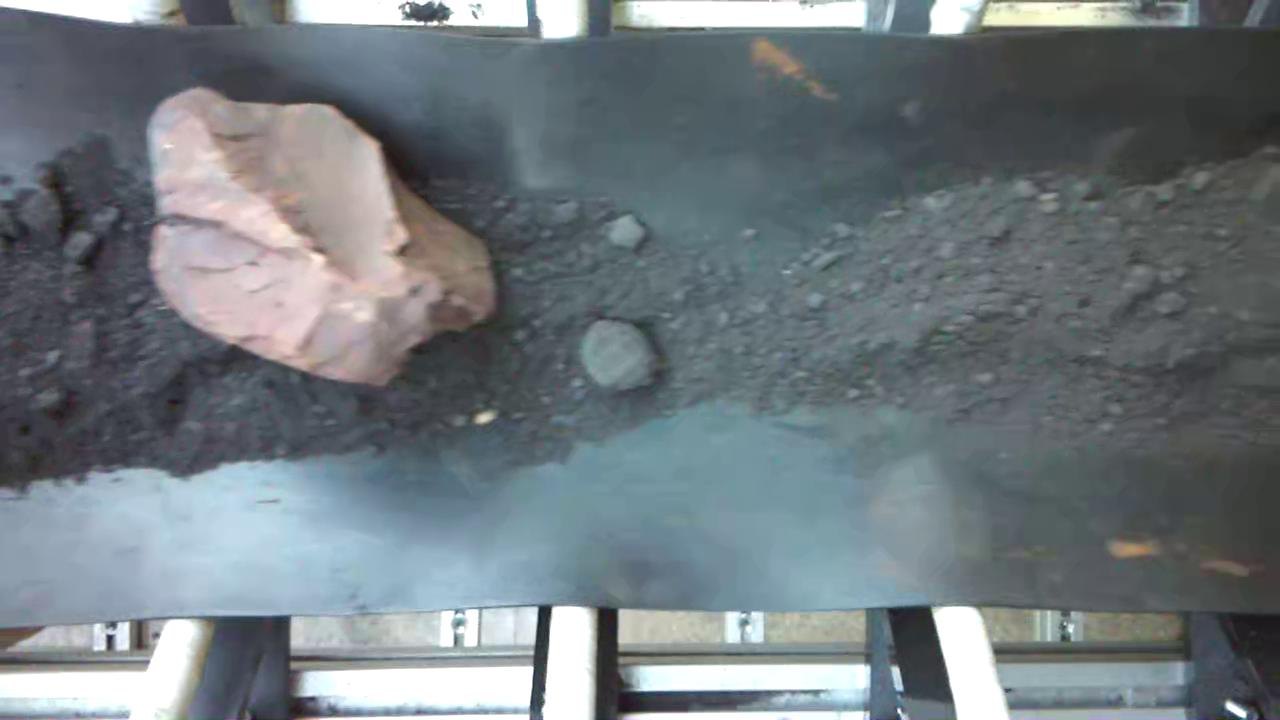conveyor: (0, 33, 1280, 602)
